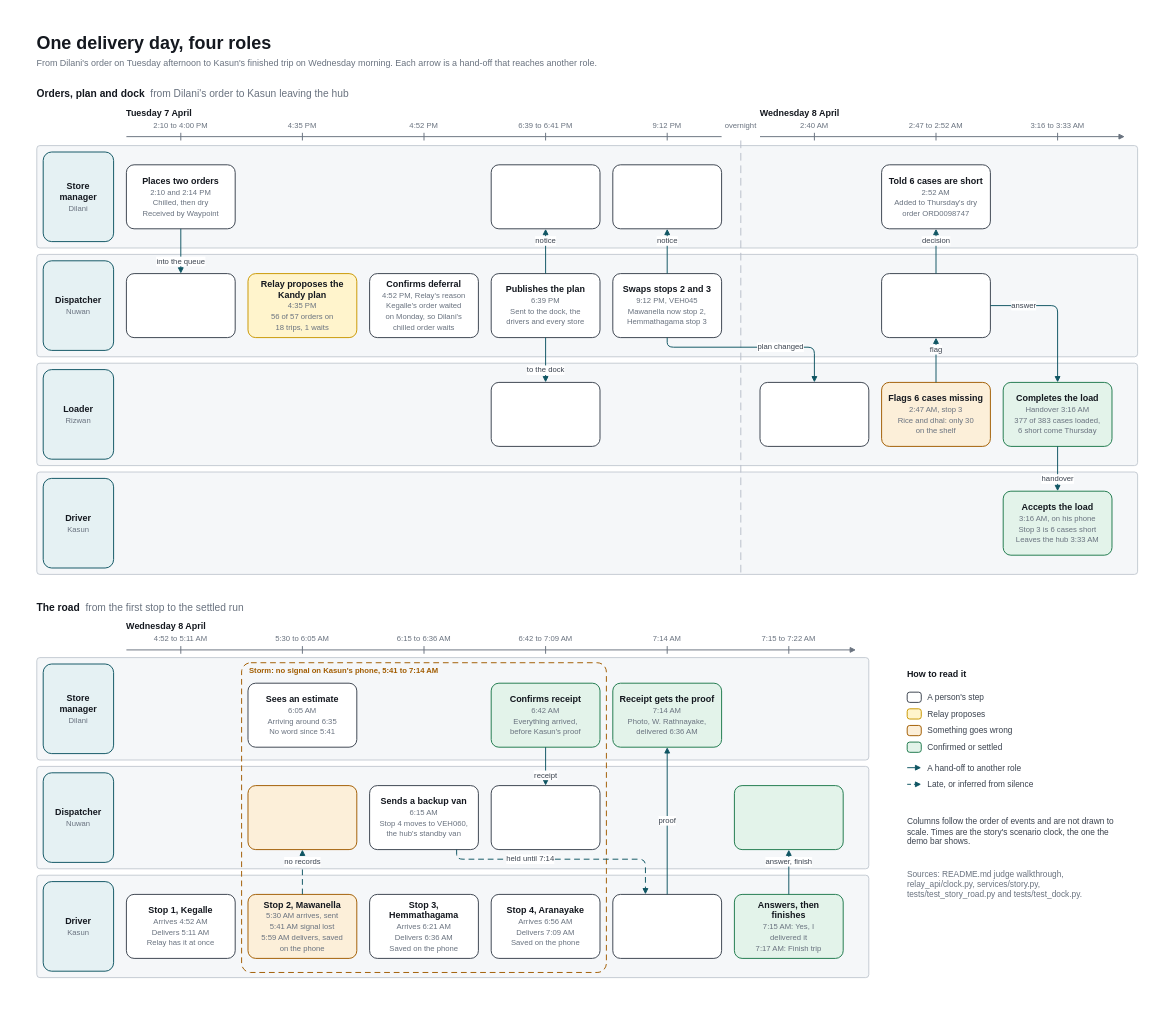
Image size: 1161x1014. Some labels were removed from this diagram. The shapes that lost their labels are listed below. From the top down, each one's box as (x1, y1, x2, y2) in pixels, then its label:
(490, 164, 600, 229): Reads the notice 6:41 PM Chilled order: Thursday Dry order: around 5:20 AM
(612, 164, 722, 229): Told it moves later 9:12 PM Dry order now around 6:25 AM, was 5:20
(126, 273, 235, 338): Queue locks 3:12 PM chases stores 4:00 PM cutoff locks 57 Kandy hub orders
(881, 273, 991, 338): Answers the flag 2:52 AM Send short, add to Thursday
(490, 382, 600, 447): Loading list 6:39 PM Built from the plan last stop loads first
(759, 382, 869, 447): Loads VEH045 2:40 AM Banner: stops 2 and 3 swapped. Stop 4 first
(247, 785, 357, 850): Sees the silence 6:05 AM No contact since 5:41 Estimates, likely ranges
(490, 785, 600, 850): Keeps the backup 6:44 AM Kasun is still out of contact, so it stays
(734, 785, 843, 850): Run settled 7:22 AM Stop 4 conflict resolved VEH060 turned back
(612, 894, 722, 959): Signal back 7:14 AM Sends 7 saved records Asked: stop 4 was also given to Nimal
